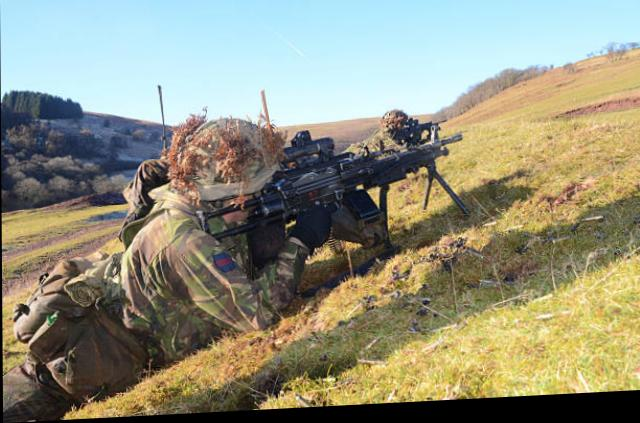other: (144, 119, 305, 352), (340, 107, 412, 158)
